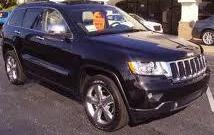front_view: (128, 45, 210, 115)
headlight: (125, 58, 170, 78)
side_glass: (7, 5, 73, 39)
